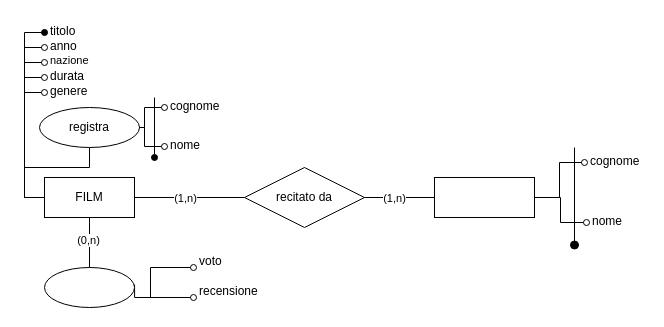
The diagram is 664 pixels wide and 327 high, and some of its shapes have lost their labels. The shapes that lost their labels are listed below. From the top down, each one's box as (x1, y1, x2, y2) in pixels, then its label:
(434, 176, 534, 218): ATTORI
(44, 266, 134, 308): valutazione
